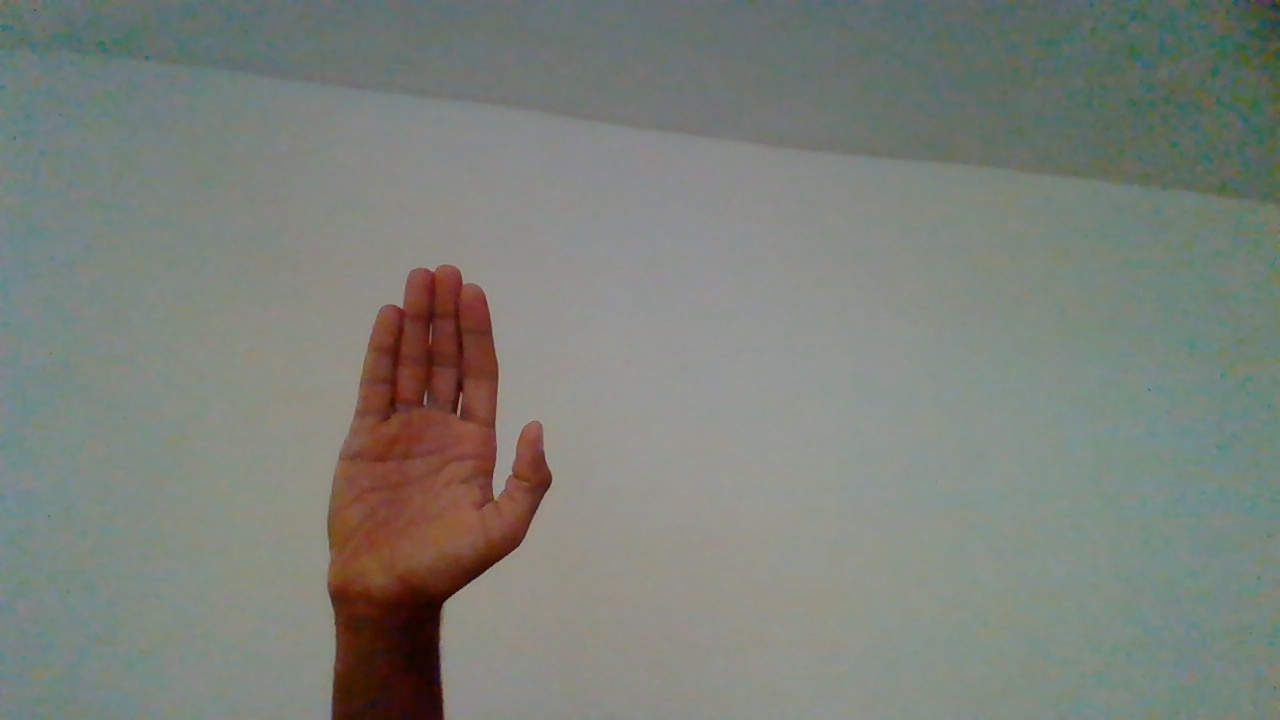ha: (329, 266, 557, 687)
